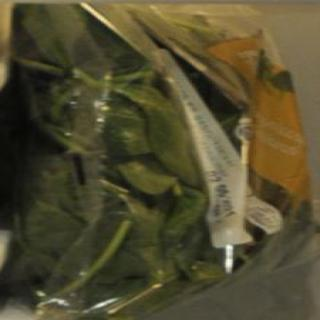spinach: (0, 1, 320, 320)
